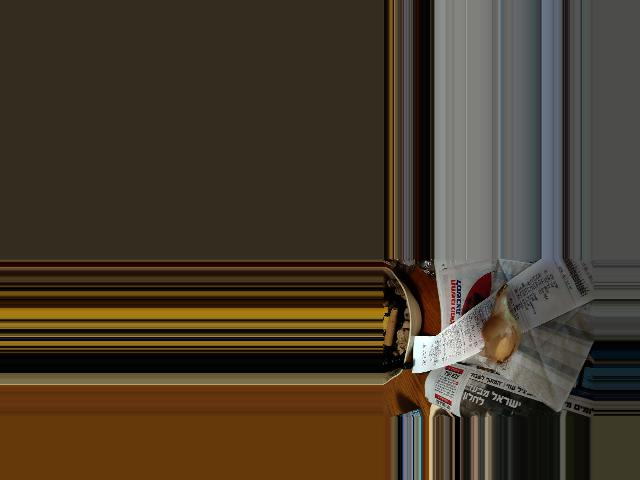onion: (484, 307, 520, 362)
